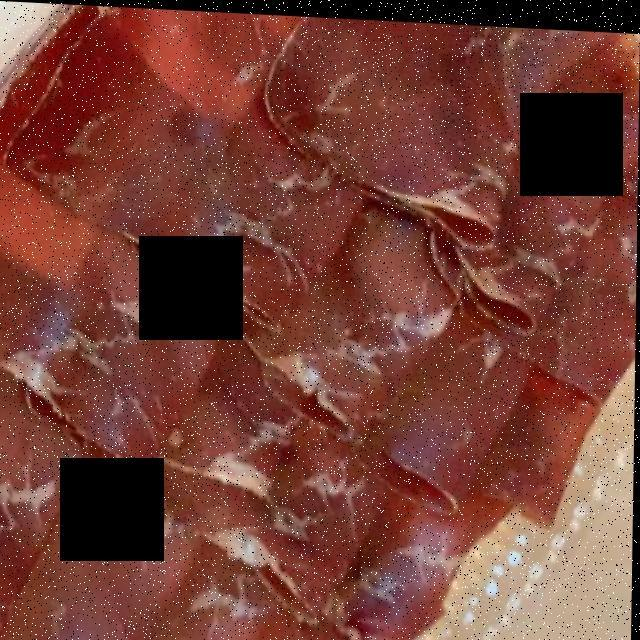dried-meat: (15, 18, 621, 640)
